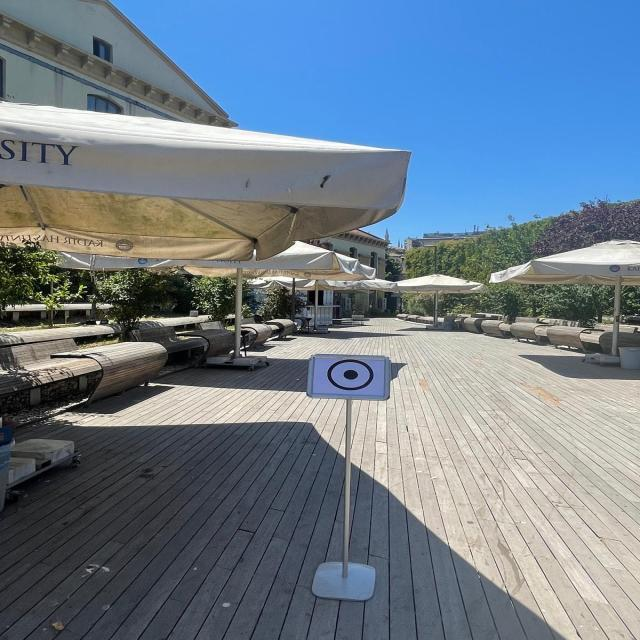Target: (301, 347, 403, 413)
inner: (340, 366, 360, 384)
